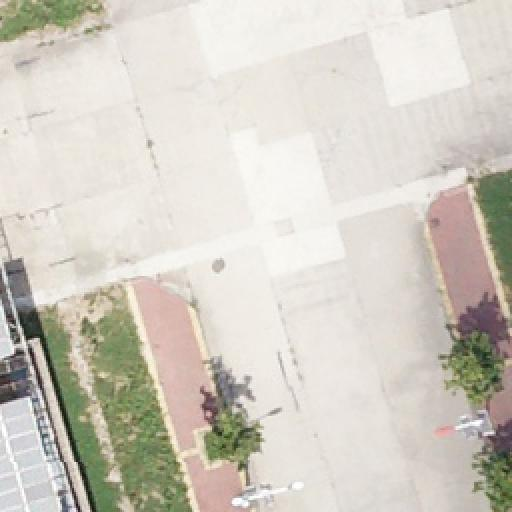solar-panel: (0, 396, 64, 512), (0, 302, 16, 358)
